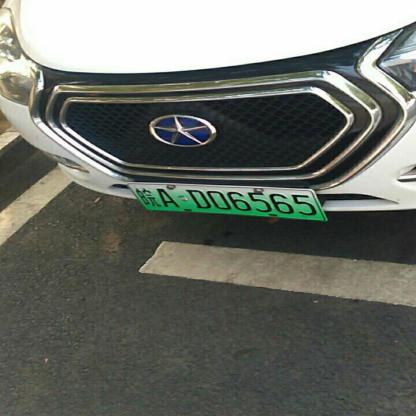lp: (128, 183, 326, 220)
